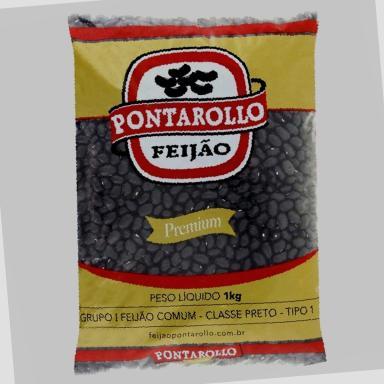beans package: (70, 15, 325, 372)
